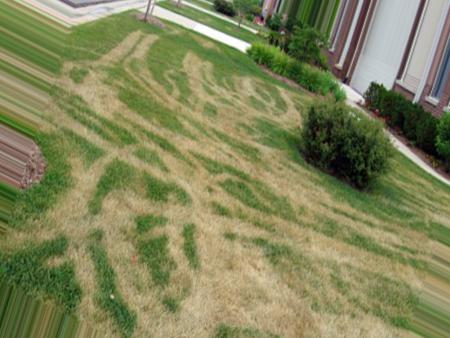patch: (280, 227, 368, 322), (202, 211, 262, 326), (200, 63, 290, 132), (107, 207, 150, 309), (141, 156, 278, 186)
